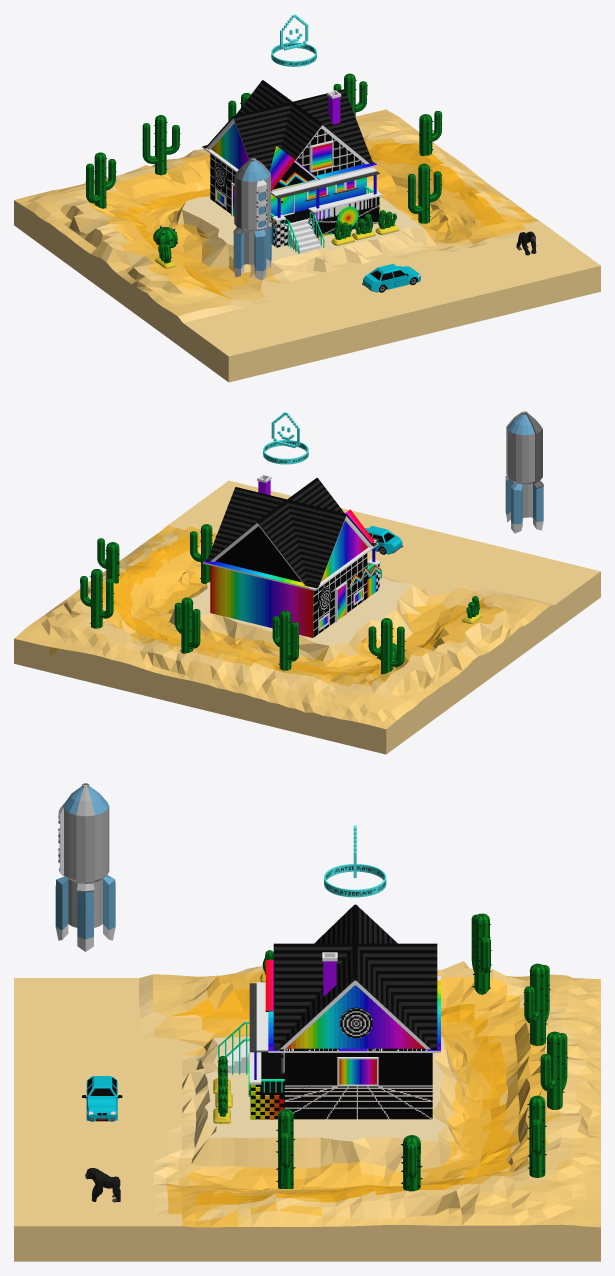
The picture shows the model from 3 angles, top to bottom: view 1: azimuth 30°, elevation 25°; view 2: azimuth 150°, elevation 25°; view 3: azimuth 270°, elevation 25°; orthographic projection. The views are drawn at different scales.
Visible parts, largest first — view 1: Cube.001, Cube.1320, OBJRANDOM_ROCKETSHIP, Cylinder.044, Cylinder.037, Cylinder.045, VEHICLES_CAR, TYPE_PREMIUM, Cylinder.038, Cylinder.042; view 2: Cube.001, Cube.1320, OBJRANDOM_ROCKETSHIP, Cylinder.042, Cylinder.045, Cylinder.044, Cylinder.043, TYPE_PREMIUM, Cylinder.037, Cylinder.038, VEHICLES_CAR; view 3: Cube.001, Cube.1320, OBJRANDOM_ROCKETSHIP, Cylinder.043, Cylinder.044, VEHICLES_CAR, Cylinder.045, Cylinder.042, Cylinder.037, TYPE_PREMIUM, Cylinder.038, ANIMAL_GORILA.
Part boxes in pixels (x1,y1,x2,y2): Cube.001: [14, 109, 600, 382]; Cube.1320: [202, 80, 381, 253]; OBJRANDOM_ROCKETSHIP: [233, 158, 271, 280]; Cylinder.044: [142, 115, 180, 175]; Cylinder.037: [407, 163, 441, 223]; Cylinder.045: [85, 152, 116, 208]; VEHICLES_CAR: [362, 264, 421, 292]; TYPE_PREMIUM: [271, 14, 316, 66]; Cylinder.038: [419, 111, 442, 156]; Cylinder.042: [333, 73, 367, 117]; Cube.001: [14, 480, 600, 754]; Cube.1320: [203, 474, 381, 637]; OBJRANDOM_ROCKETSHIP: [505, 411, 543, 533]; Cylinder.042: [80, 569, 114, 628]; Cylinder.045: [368, 618, 405, 674]; Cylinder.044: [272, 610, 299, 670]; Cylinder.043: [174, 597, 200, 653]; TYPE_PREMIUM: [263, 412, 308, 464]; Cylinder.037: [190, 524, 216, 583]; Cylinder.038: [97, 538, 119, 583]; VEHICLES_CAR: [365, 526, 403, 554]; Cube.001: [14, 961, 600, 1261]; Cube.1320: [218, 904, 440, 1119]; OBJRANDOM_ROCKETSHIP: [55, 783, 115, 951]; Cylinder.043: [539, 1031, 567, 1109]; Cylinder.044: [523, 963, 550, 1045]; VEHICLES_CAR: [82, 1076, 122, 1121]; Cylinder.045: [471, 913, 491, 994]; Cylinder.042: [527, 1095, 546, 1177]; Cylinder.037: [276, 1109, 295, 1188]; TYPE_PREMIUM: [324, 825, 386, 897]; Cylinder.038: [401, 1135, 422, 1191]; ANIMAL_GORILA: [85, 1168, 120, 1202].
Size of the model in its own units: 4002 by 2453 by 4001.
Materials: 33 (5 with a texture image).
